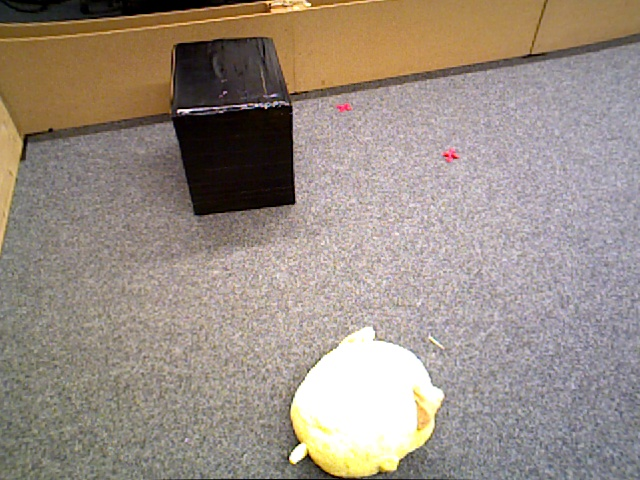grasp: (289, 341, 437, 476)
push: (171, 35, 297, 217)
